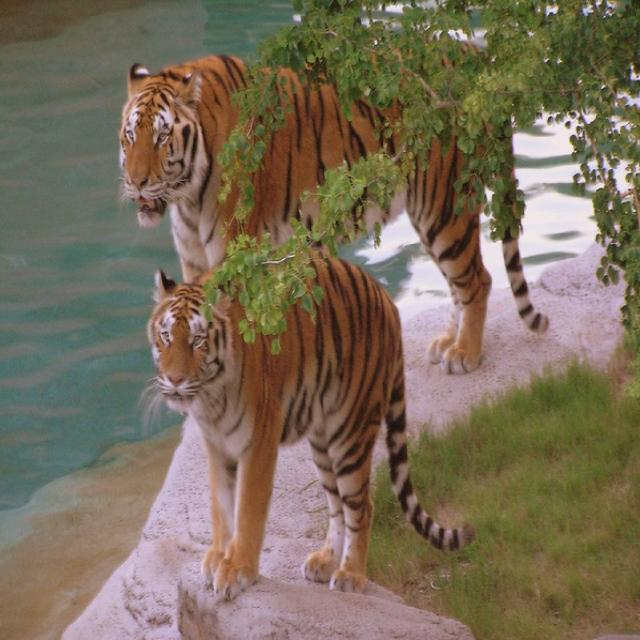Tiger: (115, 34, 550, 378), (140, 242, 477, 607)
